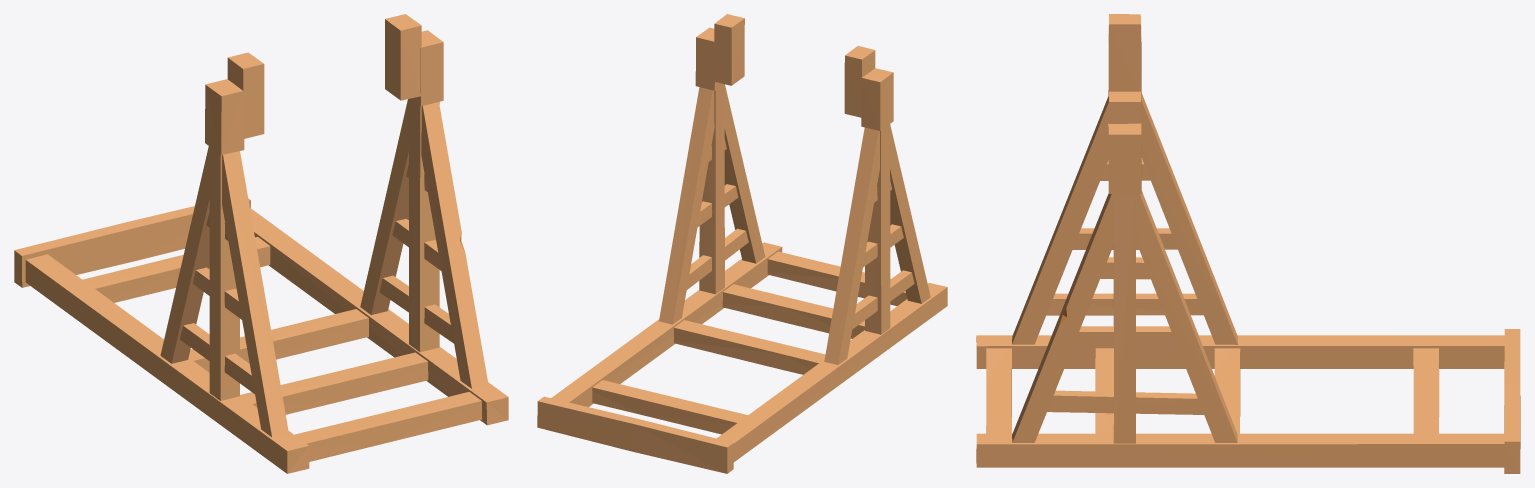
The model's file is trebuchet.main.fbx.
The picture shows the model from 3 angles, left to right: view 1: azimuth 30°, elevation 25°; view 2: azimuth 150°, elevation 25°; view 3: azimuth 270°, elevation 25°; orthographic projection. The views are drawn at different scales.
Visible parts, largest first — view 1: trebuchet.main; view 2: trebuchet.main; view 3: trebuchet.main.
Boxes of the visible parts, left/top/right/bottom form: trebuchet.main: left=14, top=14, right=508, bottom=473; trebuchet.main: left=537, top=14, right=947, bottom=473; trebuchet.main: left=976, top=14, right=1520, bottom=473.
Size of the model in its own units: 3.18 by 4.73 by 6.48.
